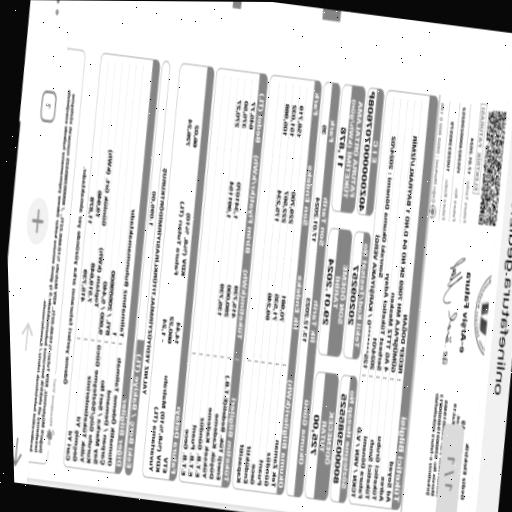electricity-bill: (28, 1, 512, 512)
